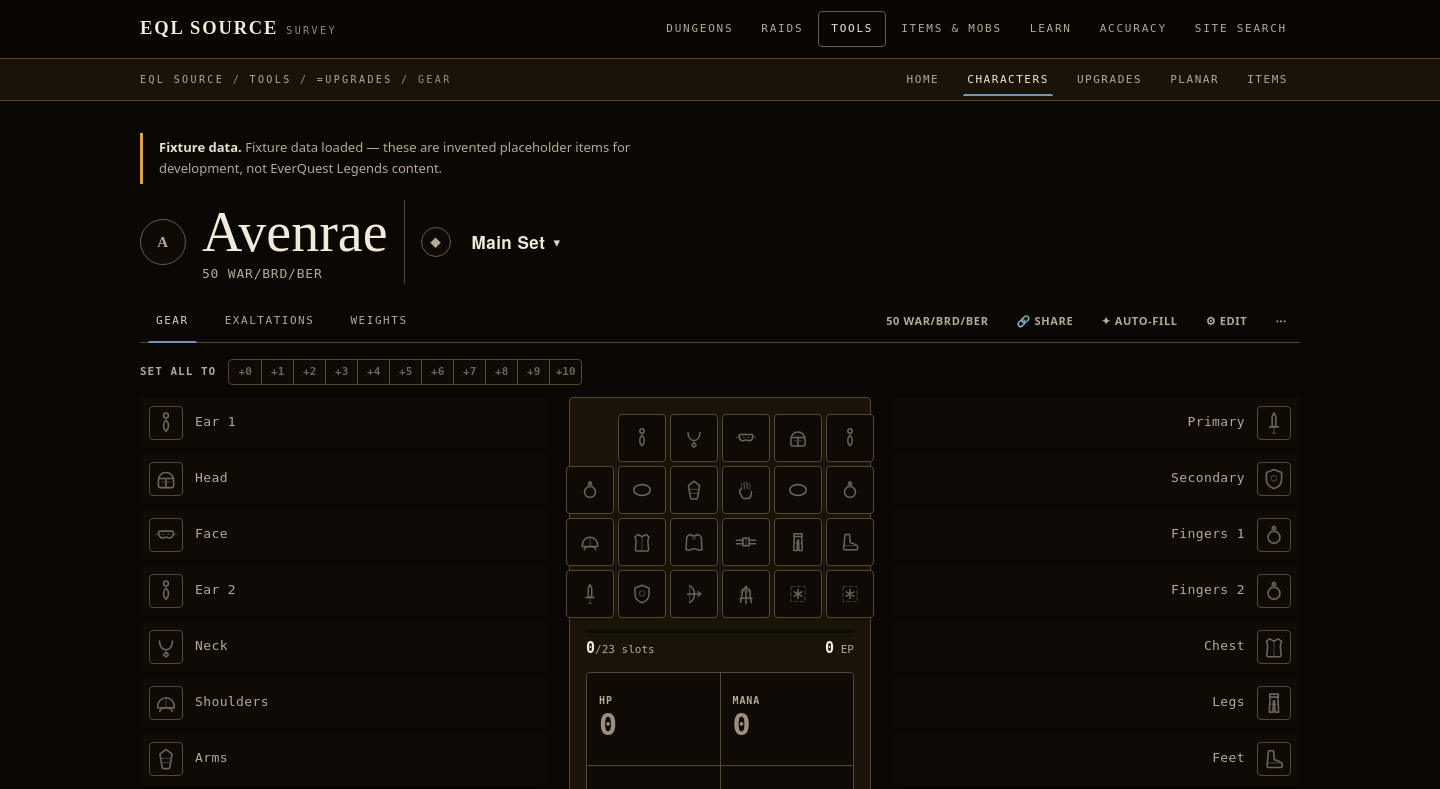
Test: the three filter controls › shows a row the old era gate would have hidden, unmarked and unranked-down
What coordinates should you click on to do the following:
click the button "Head"
I would click on:
 (166, 478)
Its box is [141,454,536,504].
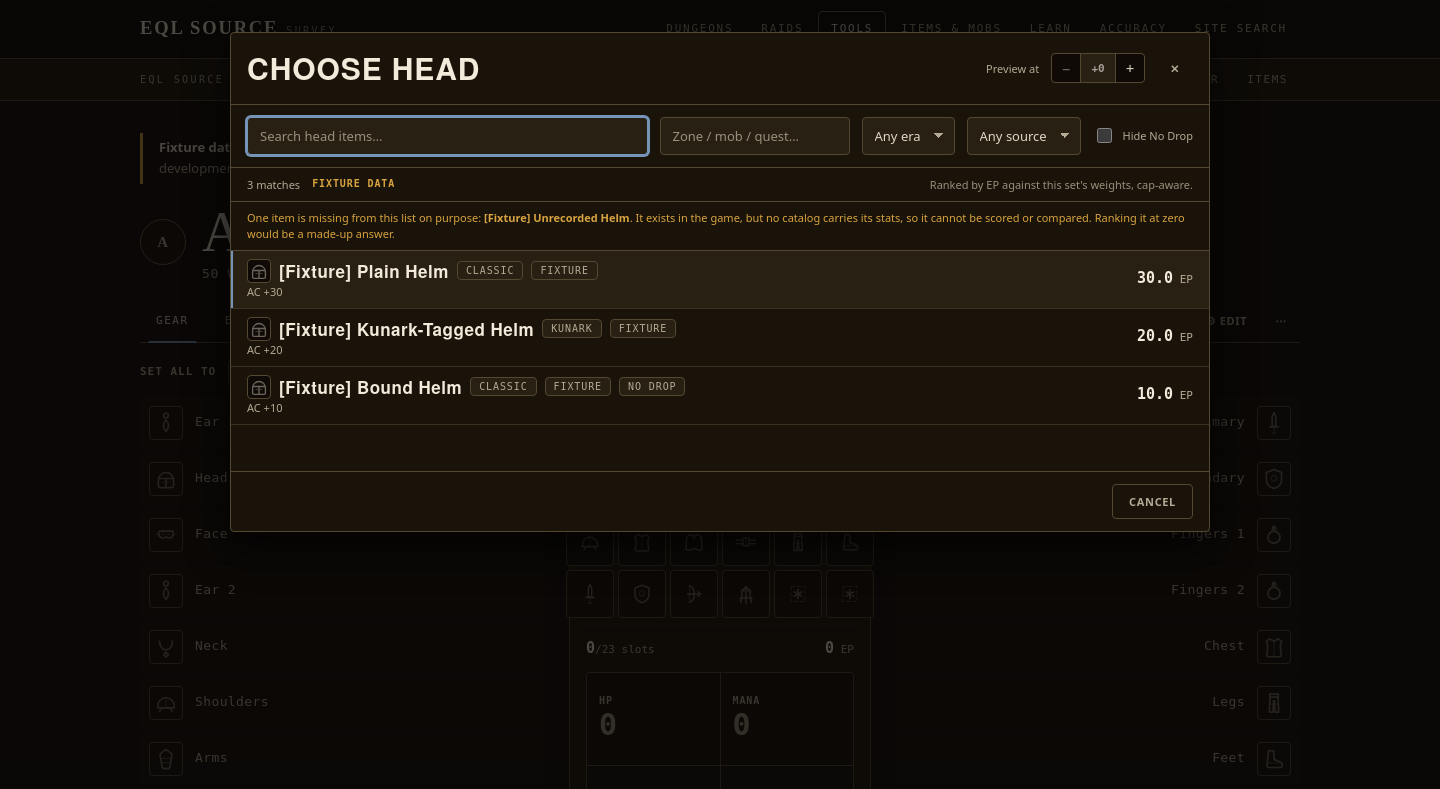
Now the option with class "result" shows "Kunark", box [231,309,1209,367]
Now the text with class "iname" reads "[Fixture] Kunark-Tagged Helm", box [279,316,534,340]
